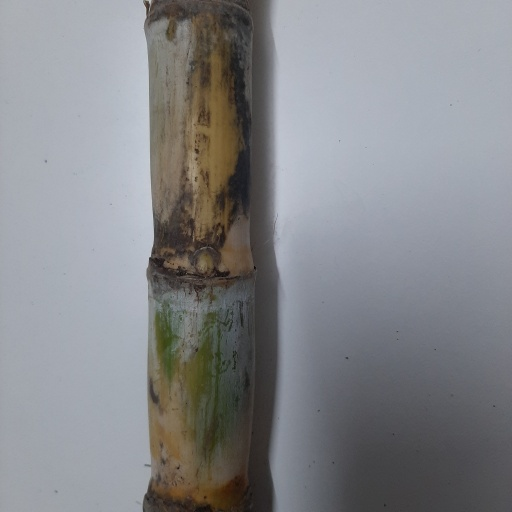Bud: (193, 247, 219, 277)
